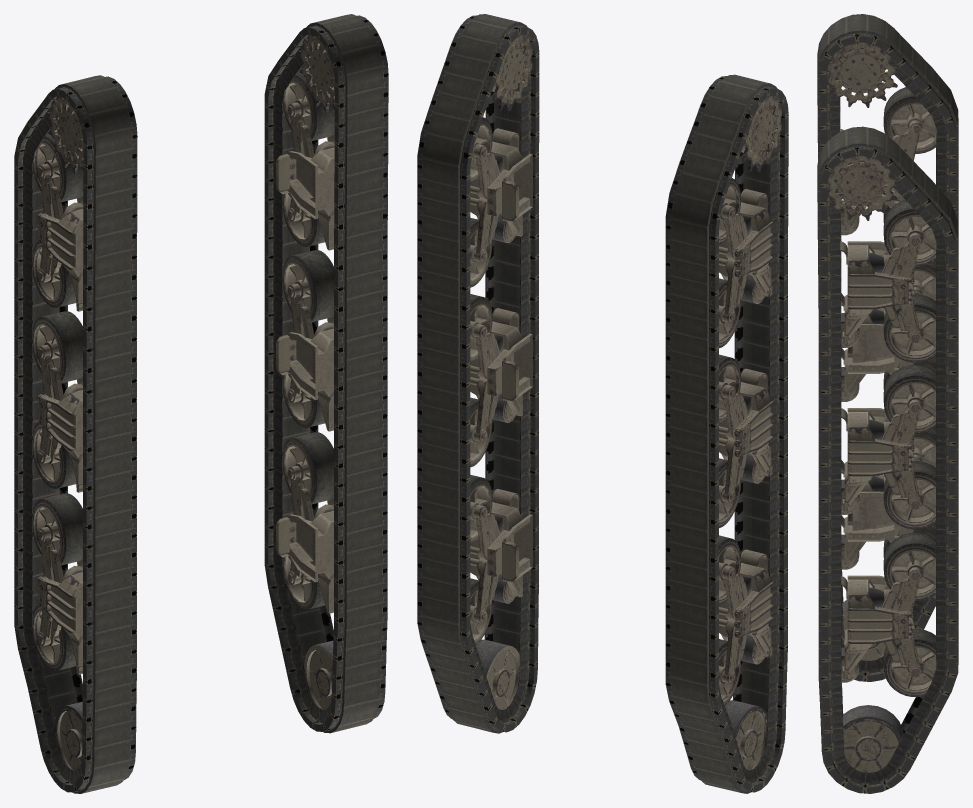
File: Chassis.glb
3 renders of one model, left to right at view 1: azimuth 30°, elevation 25°; view 2: azimuth 150°, elevation 25°; view 3: azimuth 270°, elevation 25°, orthographic. The views are drawn at different scales.
Parts seen in each view (by area): view 1: set_0_group_0, set_1_group_0, set_2_group_0, set_3_group_0; view 2: set_0_group_0, set_1_group_0, set_2_group_0, set_3_group_0; view 3: set_2_group_0, set_1_group_0, set_3_group_0, set_0_group_0.
Part boxes in pixels (x1=…): set_0_group_0: x1=14, y1=75, x2=137, y2=793; set_1_group_0: x1=264, y1=14, x2=388, y2=733; set_2_group_0: x1=276, y1=34, x2=334, y2=709; set_3_group_0: x1=33, y1=96, x2=83, y2=769; set_0_group_0: x1=665, y1=74, x2=788, y2=793; set_1_group_0: x1=417, y1=14, x2=539, y2=733; set_2_group_0: x1=470, y1=34, x2=532, y2=709; set_3_group_0: x1=719, y1=95, x2=782, y2=769; set_2_group_0: x1=827, y1=155, x2=936, y2=772; set_1_group_0: x1=817, y1=126, x2=958, y2=793; set_3_group_0: x1=827, y1=42, x2=936, y2=660; set_0_group_0: x1=817, y1=14, x2=958, y2=681.
Size of the model in its own units: 2.55 by 5.68 by 1.12.
Materials: 4 (4 with a texture image).
